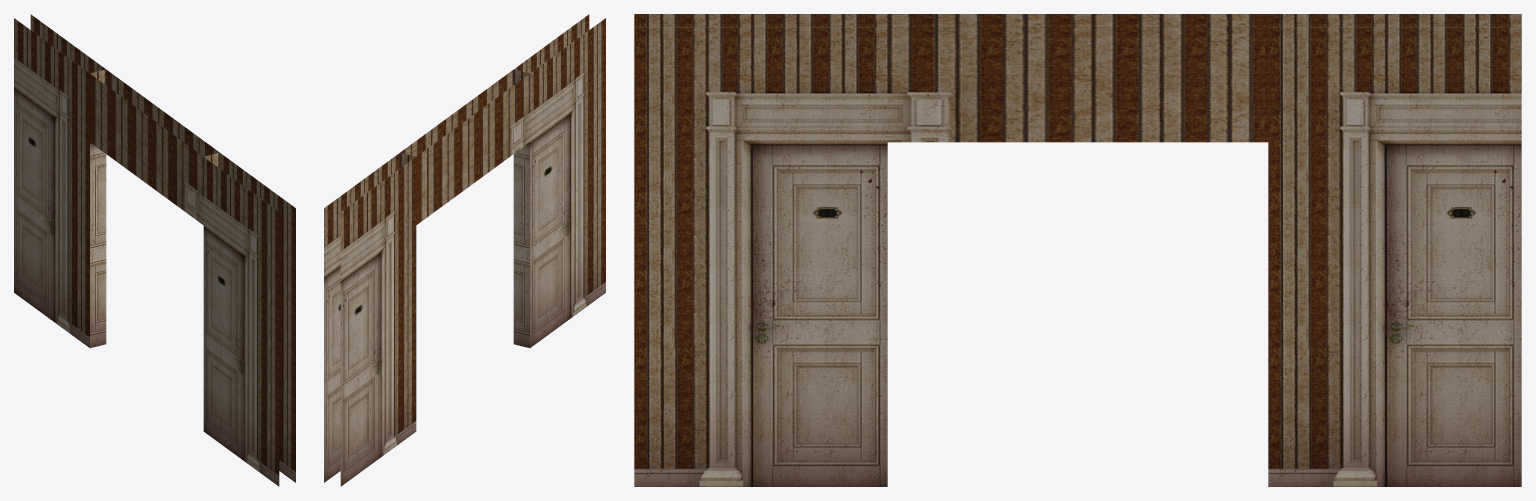
File: wall_door-frame.obj
The picture shows the model from 3 angles, left to right: view 1: azimuth 30°, elevation 25°; view 2: azimuth 150°, elevation 25°; view 3: azimuth 270°, elevation 25°; orthographic projection. The views are drawn at different scales.
Visible parts, largest first — view 1: wall_door-frame_Cube.028; view 2: wall_door-frame_Cube.028; view 3: wall_door-frame_Cube.028.
Boxes of the visible parts, <box> form: wall_door-frame_Cube.028: <box>14,14,295,486</box>; wall_door-frame_Cube.028: <box>324,14,605,486</box>; wall_door-frame_Cube.028: <box>634,14,1521,486</box>.
Size of the model in its own units: 0.5 by 8 by 14.
